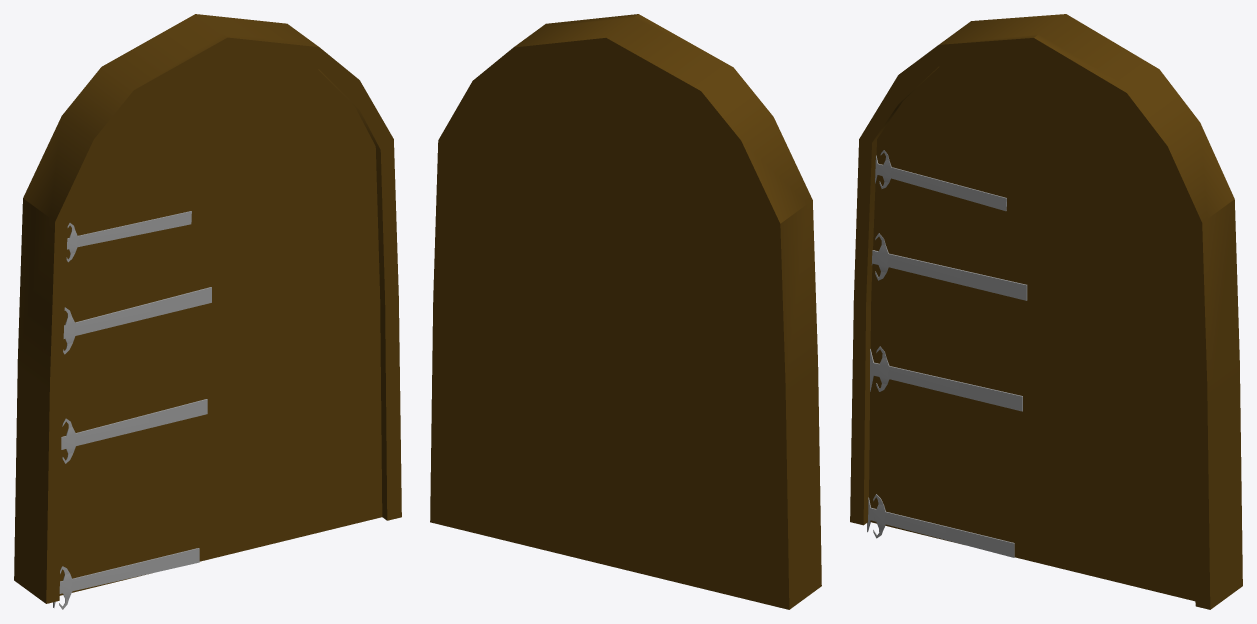
File: DutchDoor.fbx
3 views of the same model, side by side, from view 1: azimuth 30°, elevation 25°; view 2: azimuth 150°, elevation 25°; view 3: azimuth 330°, elevation 25° (orthographic).
Visible parts, largest first — view 1: DoorBody, MiddleHinge1, MiddleHinge, MiddleHinge2, MiddleHinge3; view 2: DoorBody; view 3: DoorBody, MiddleHinge1, MiddleHinge, MiddleHinge2, MiddleHinge3.
Part boxes in pixels (<box>): DoorBody: <box>14,14,401,603</box>; MiddleHinge1: <box>63,287,211,354</box>; MiddleHinge: <box>61,399,207,463</box>; MiddleHinge2: <box>53,548,199,609</box>; MiddleHinge3: <box>66,211,191,262</box>; DoorBody: <box>430,14,821,609</box>; DoorBody: <box>850,14,1242,609</box>; MiddleHinge1: <box>871,233,1027,300</box>; MiddleHinge: <box>870,346,1022,411</box>; MiddleHinge2: <box>867,494,1014,557</box>; MiddleHinge3: <box>875,150,1006,211</box>.
Bounding box in the file's own units: 7.55 × 10.9 × 1.18.
